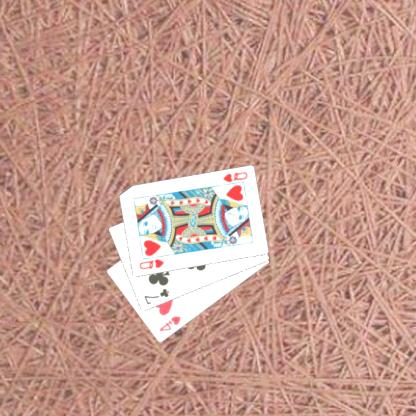4H: (156, 314, 182, 333)
7C: (142, 286, 170, 306)
QH: (218, 169, 249, 187), (136, 256, 165, 271)
